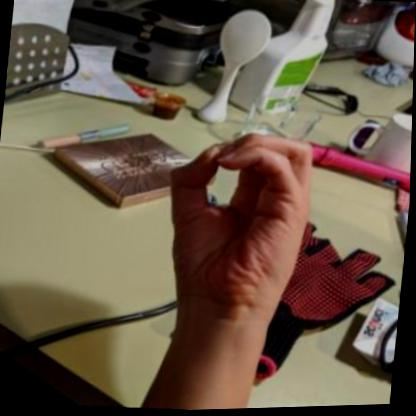O: (147, 119, 328, 333)
